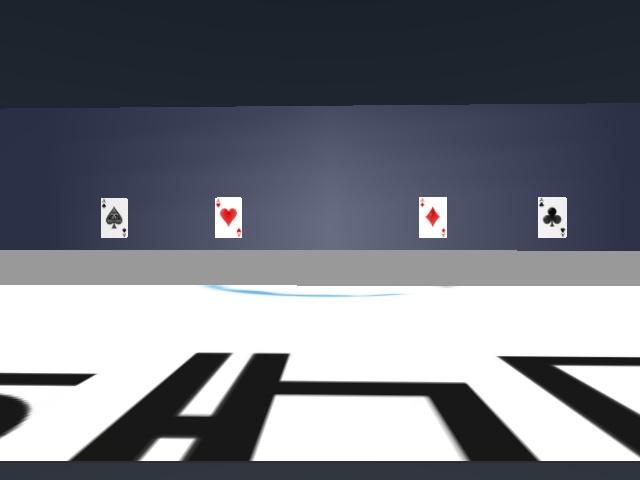club: (537, 197, 567, 237)
diamond: (419, 197, 447, 237)
heart: (214, 197, 242, 237)
spade: (100, 198, 128, 237)
